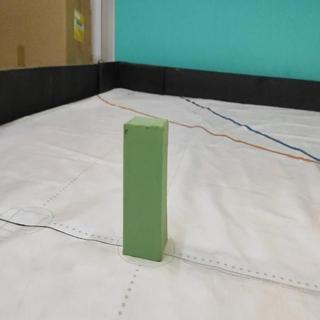greenbox: (123, 115, 169, 261)
